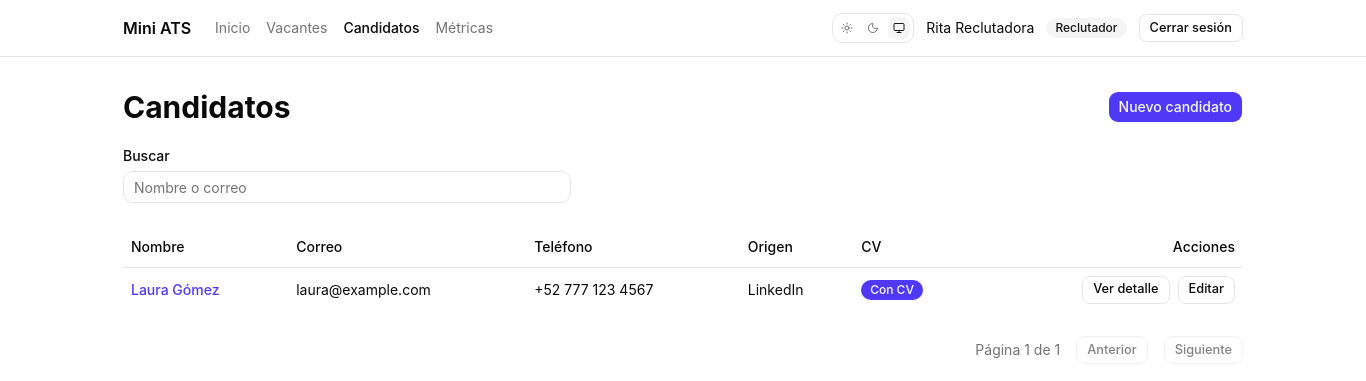
CandidatesPage › sends a single request once typing stops
This screenshot has width=1366, height=381.
Expected: the link "Laura Gómez" is shown, [131, 280, 220, 298]
Type "a" into the search field labelled "Buscar" at (347, 187), box [123, 171, 571, 203]
Wait 100 ms
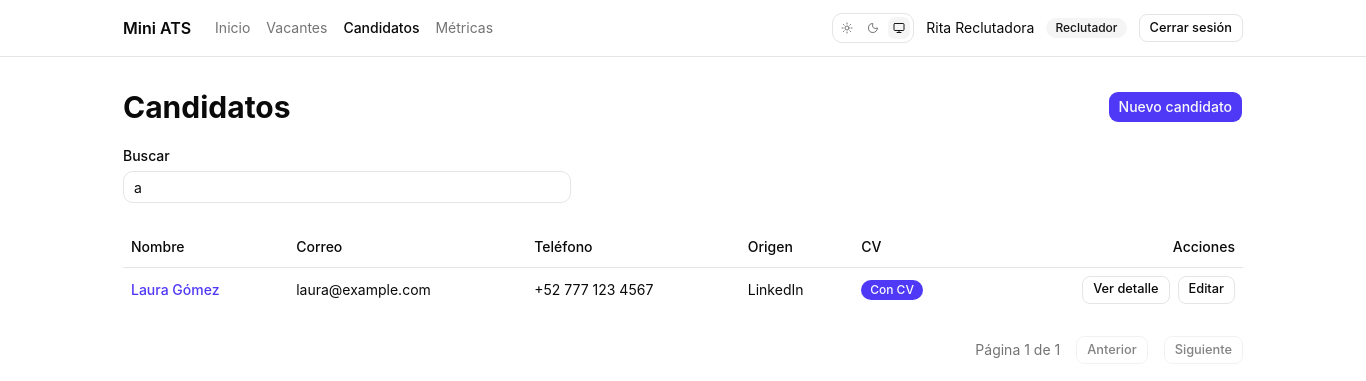
Replace the text in the search field labelled "Buscar" with "an" at (347, 187), box [123, 171, 571, 203]
Wait 100 ms
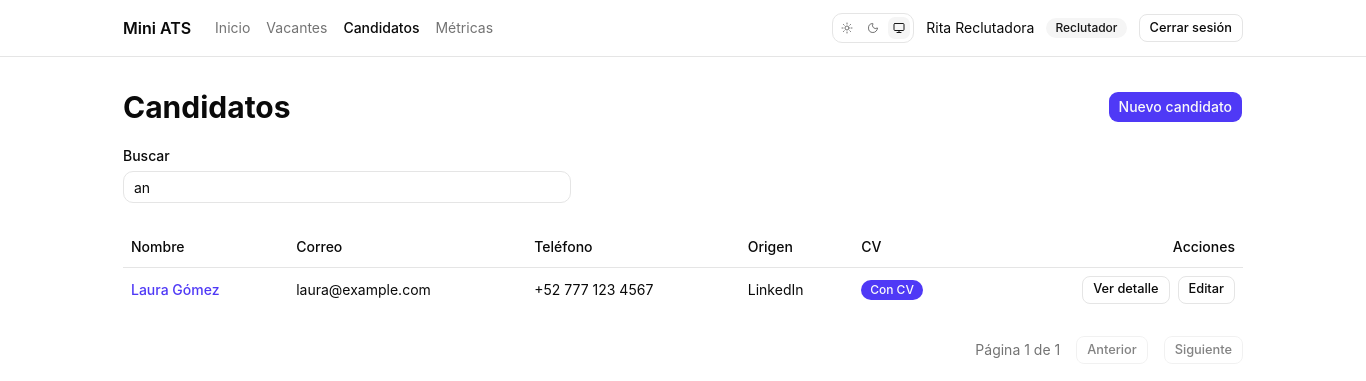
Replace the text in the search field labelled "Buscar" with "ana" at (347, 187), box [123, 171, 571, 203]
Wait 350 ms
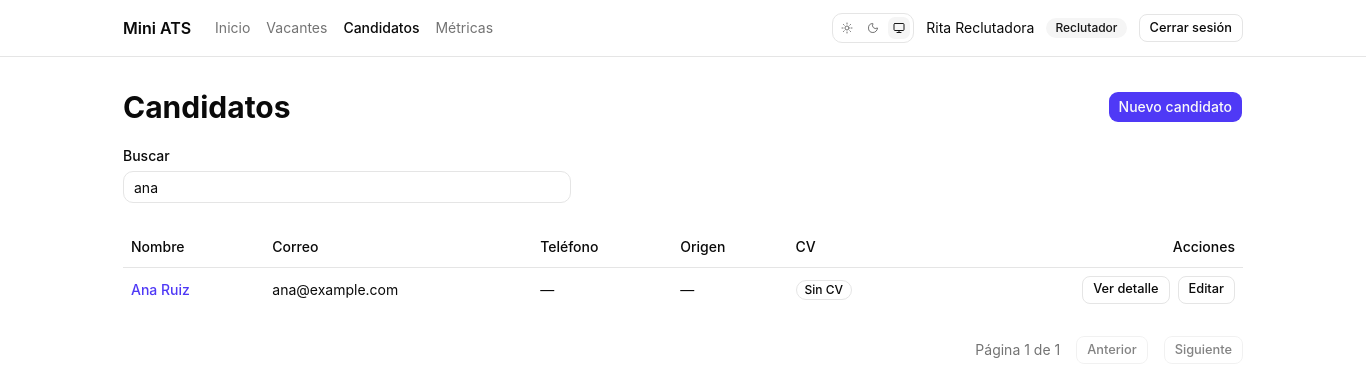
Result: the link "Ana Ruiz" is shown at [131, 280, 190, 298]
